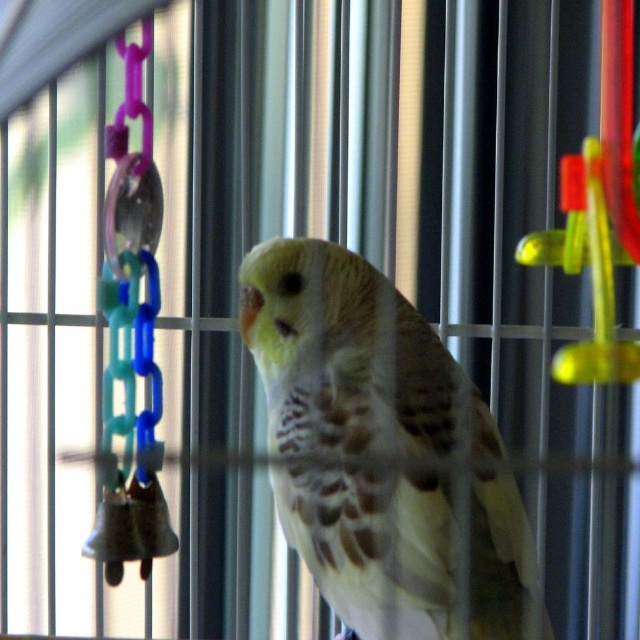Parrot: (238, 238, 553, 640)
